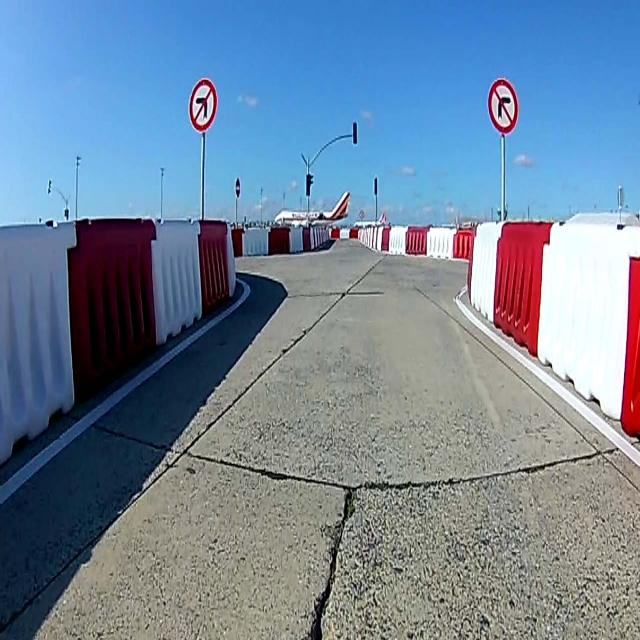sagadonulmez: (488, 81, 518, 134)
soladonulmez: (188, 77, 218, 132)
